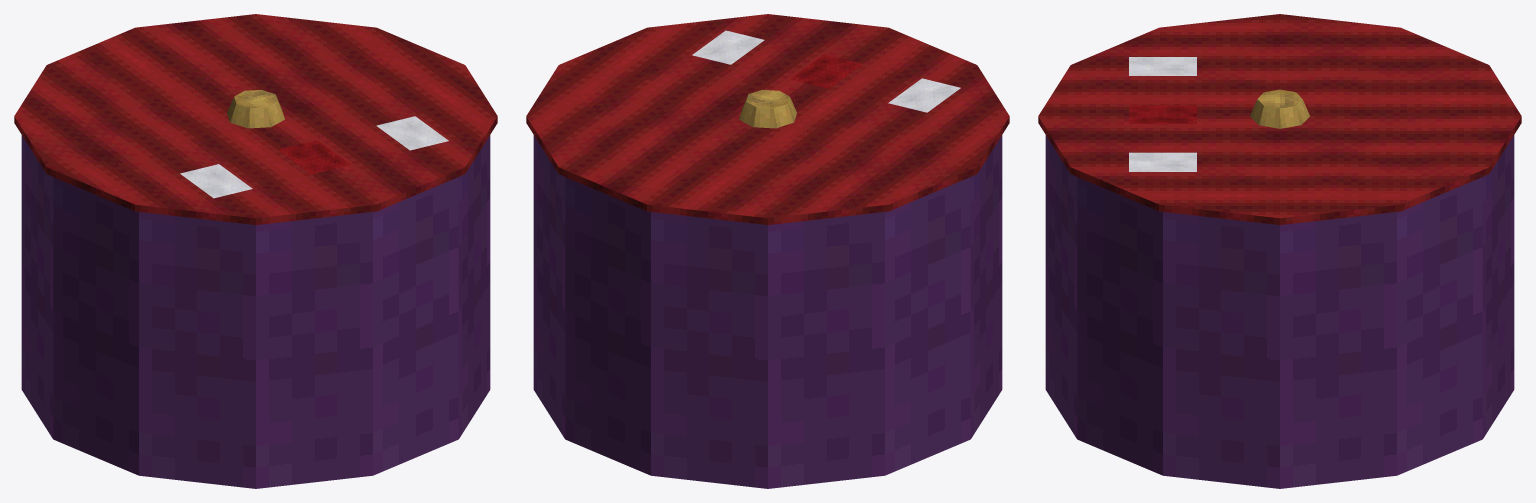
Rendered from mesa_vidente.obj.
The picture shows the model from 3 angles, left to right: view 1: azimuth 30°, elevation 25°; view 2: azimuth 150°, elevation 25°; view 3: azimuth 270°, elevation 25°; orthographic projection.
Visible parts, largest first — view 1: mesa_vidente; view 2: mesa_vidente; view 3: mesa_vidente.
Part boxes in pixels (x1,y1,x2,y2): mesa_vidente: [14, 14, 497, 488]; mesa_vidente: [526, 14, 1009, 488]; mesa_vidente: [1038, 14, 1521, 488].
Size of the model in its own units: 1.28 by 0.85 by 1.28.
5 materials, 5 textured.
